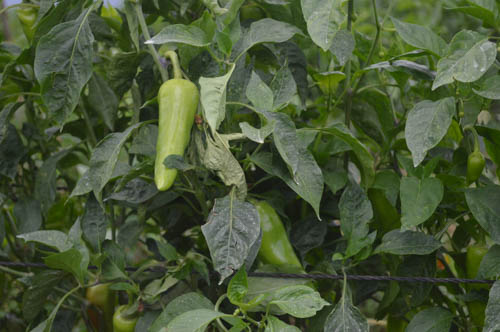ChiliPepper: (151, 80, 192, 191), (249, 198, 301, 272)
